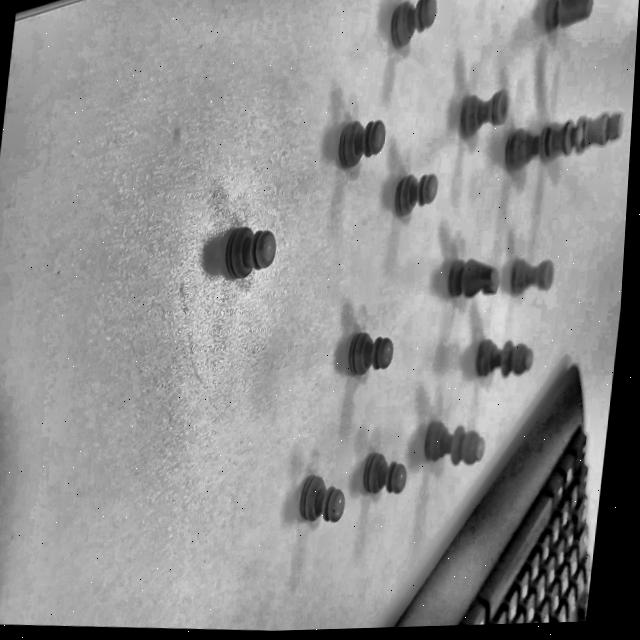white-bishop: (422, 419, 487, 468), (474, 338, 534, 380)
white-king: (535, 95, 624, 184)
white-knight: (443, 257, 503, 308), (541, 0, 592, 33)
white-pawn: (213, 218, 280, 295), (335, 117, 387, 170), (297, 474, 347, 523), (388, 0, 438, 46), (346, 332, 395, 377), (393, 173, 439, 219), (362, 454, 409, 497)
white-queen: (501, 107, 585, 195)
white-rook: (449, 77, 511, 152), (507, 251, 556, 300)
